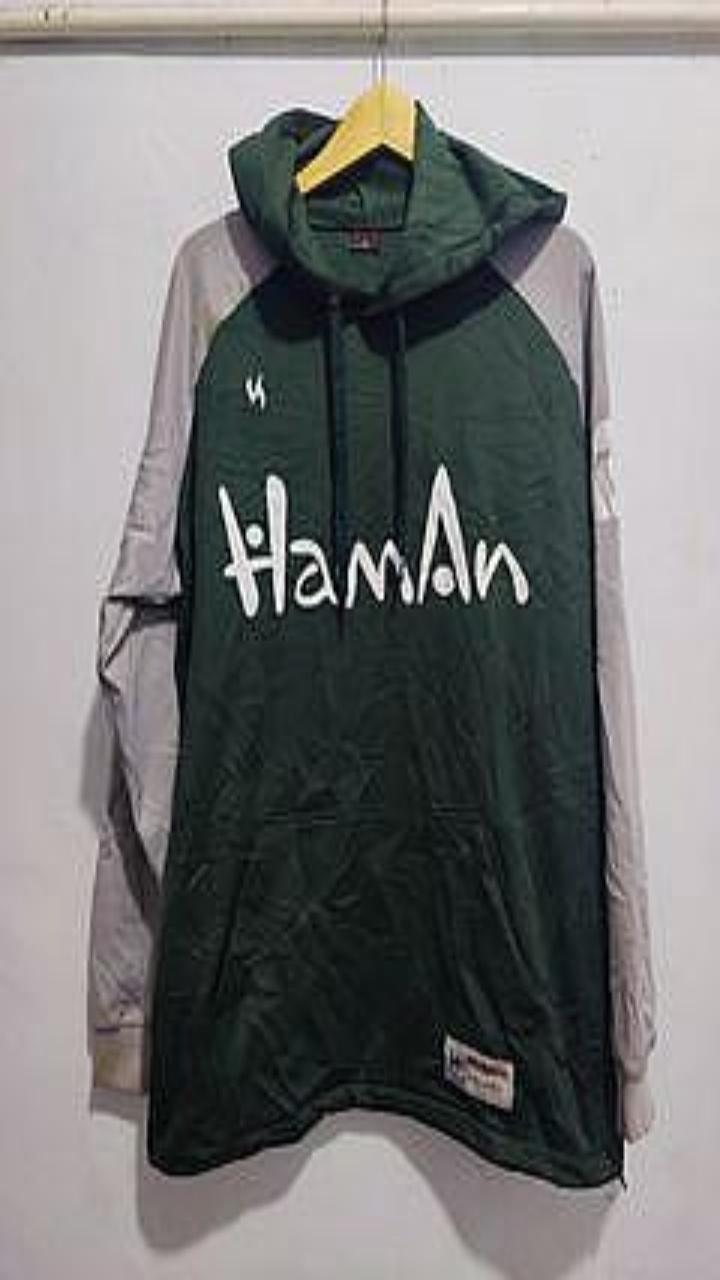Sports_Jacket: (90, 101, 655, 1186)
